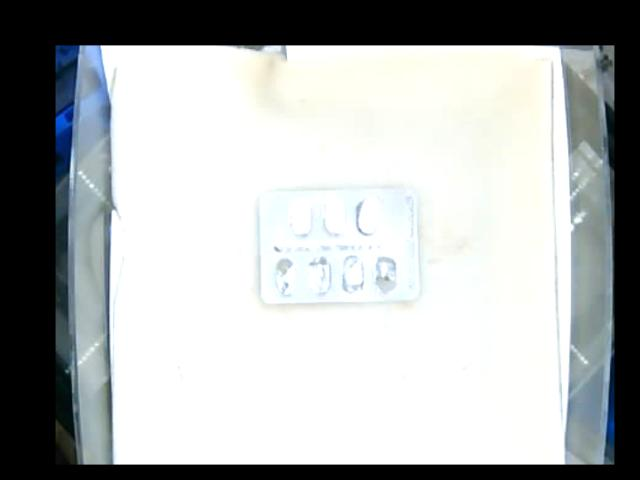Medicine: (257, 187, 419, 301)
